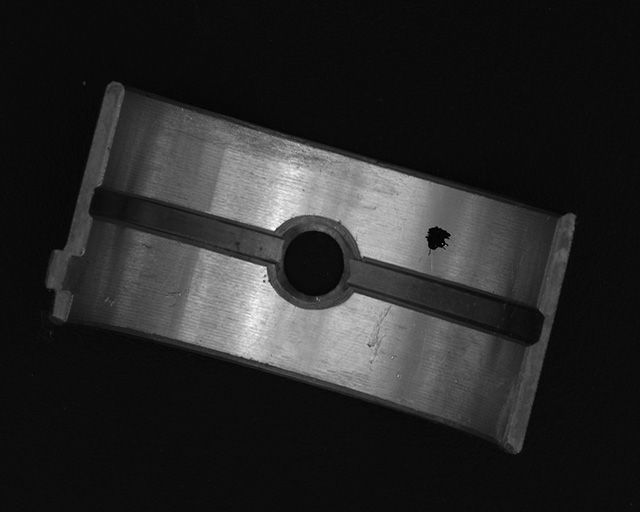blot: (425, 225, 452, 256)
bruise: (165, 289, 188, 298), (101, 295, 117, 307)
gap: (349, 257, 541, 343), (90, 187, 283, 263)
hole: (270, 217, 354, 305)
nick: (365, 304, 392, 364)
scratch: (173, 108, 349, 172)
